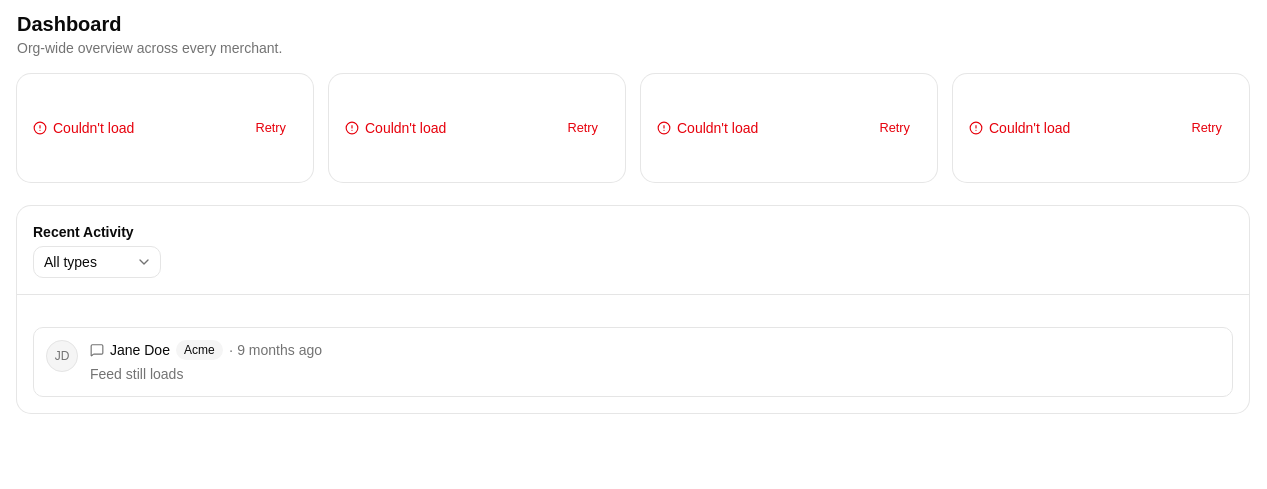
DashboardPage › shows a KPI error state with retry, independent of a successful activity feed
The width and height of the screenshot is (1267, 489).
expect the text "Feed still loads" is shown: met, box x1=90 y1=366 x2=183 y2=382
Click the 1st button "Retry" at (271, 128), box x1=244 y1=114 x2=297 y2=142
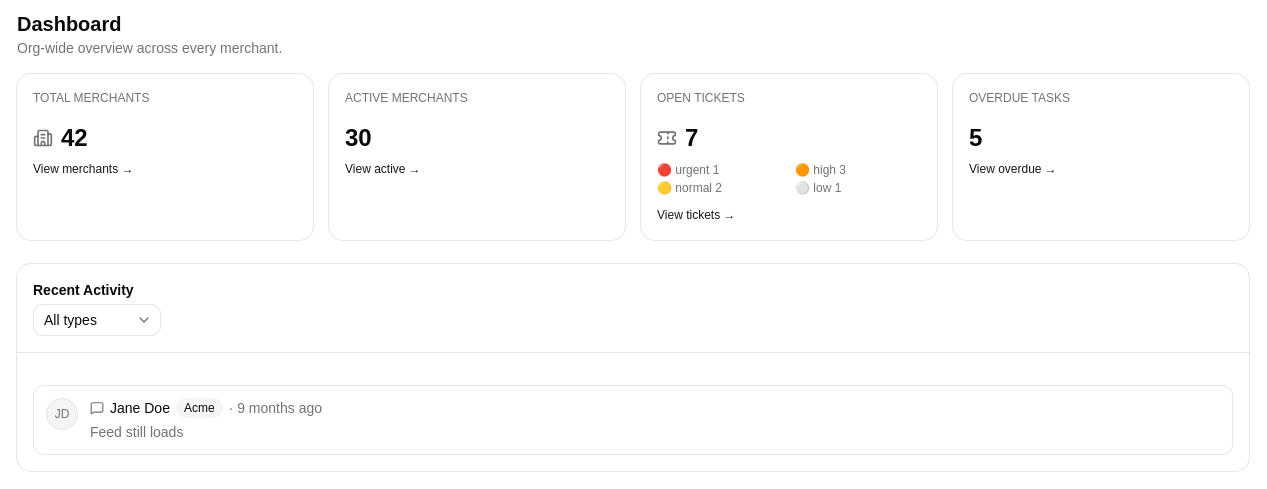
expect the text "42" is shown: met, box x1=33 y1=124 x2=88 y2=151
